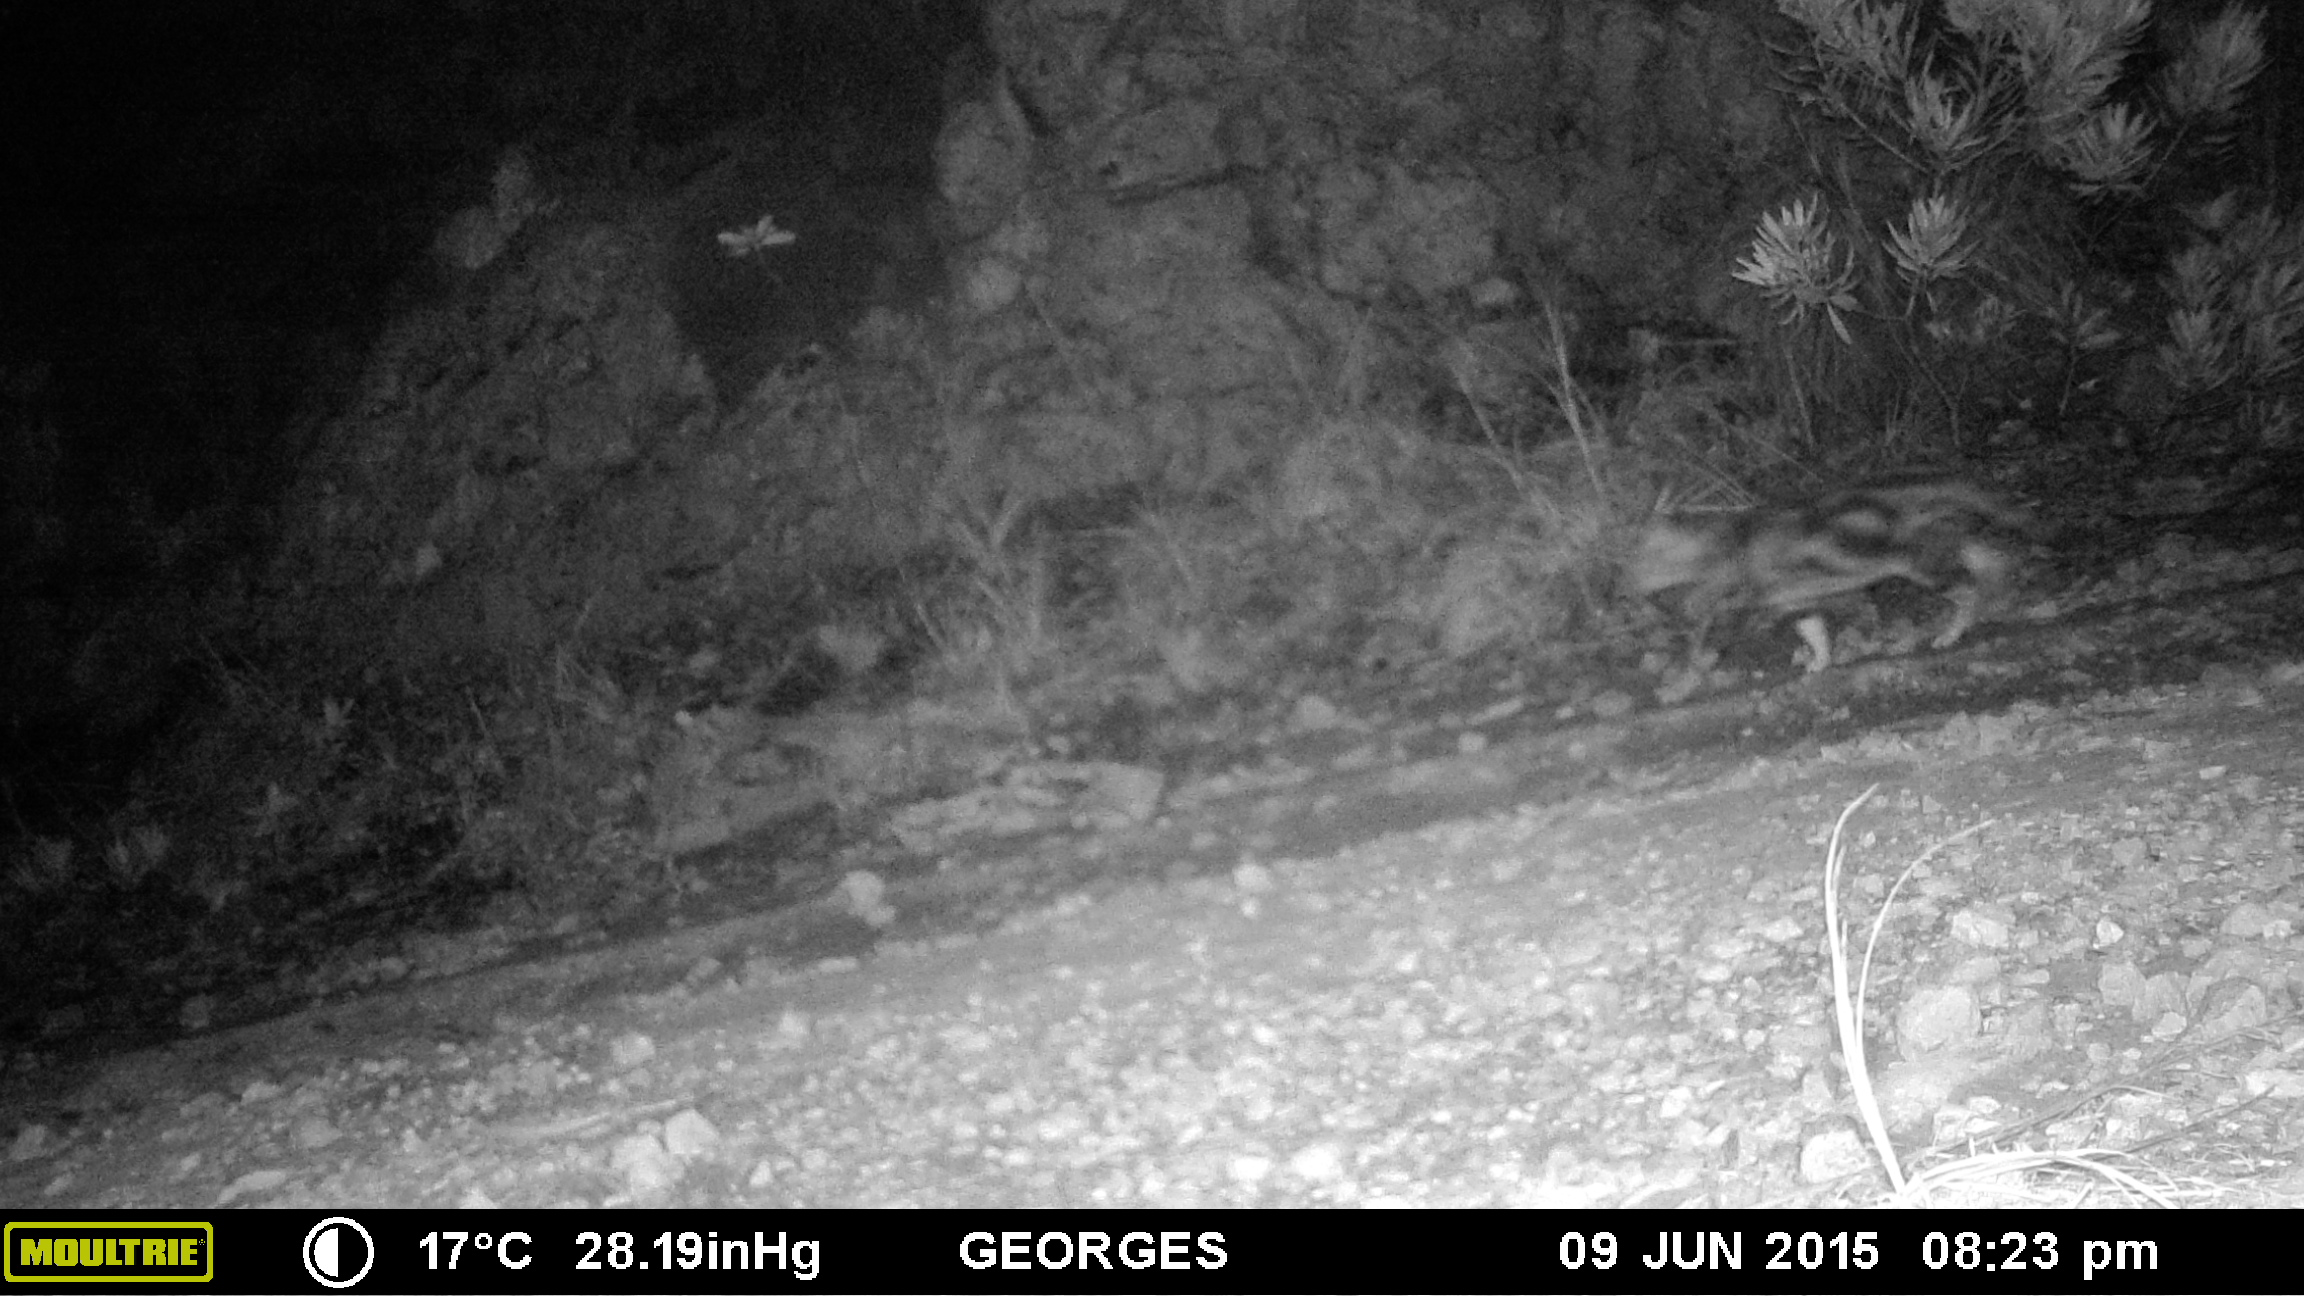cat: (1611, 459, 2068, 715)
